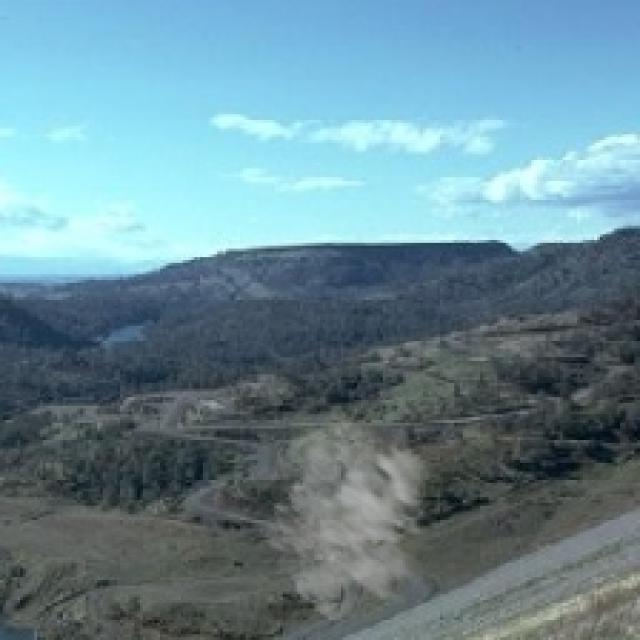smoke: (257, 406, 466, 634)
